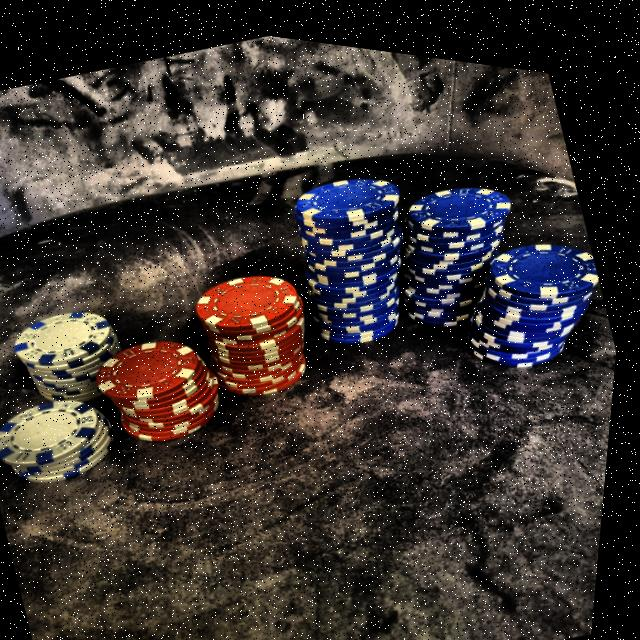Chip: (268, 131, 456, 364), (373, 140, 556, 343), (450, 182, 631, 376), (176, 225, 347, 417), (78, 292, 258, 472), (8, 277, 156, 423), (0, 362, 142, 510)
